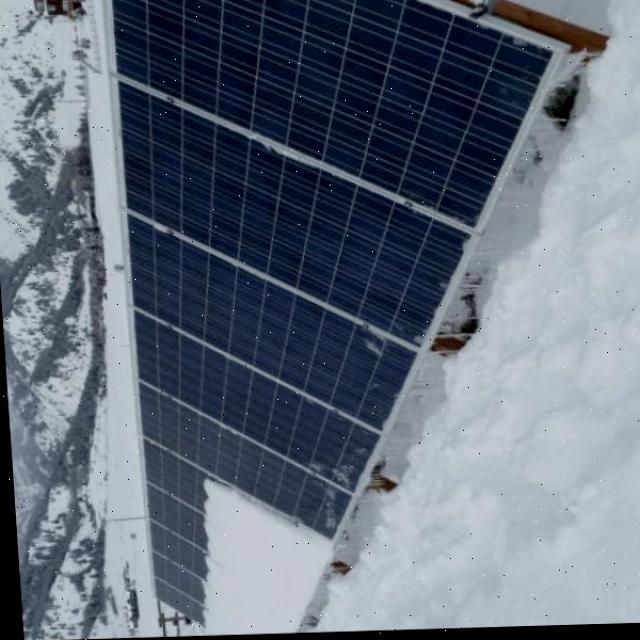Anomaly Solar Panel: (69, 432, 335, 637)
Normal Solar Panel: (63, 0, 551, 237), (70, 78, 463, 348), (89, 212, 410, 431), (100, 297, 377, 499), (112, 379, 343, 540)
Snow: (131, 477, 323, 637)
